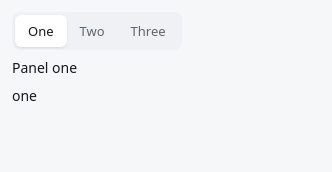
Test: TabsList mouse drag scroll › a click without movement changes the tab
The image size is (332, 172).
Click the tab "Two" at (92, 31), box [66,15,118,47]
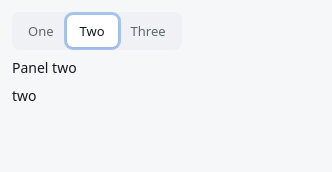
Now the text with test id "active-value" reads "two", box [12,86,36,105]
